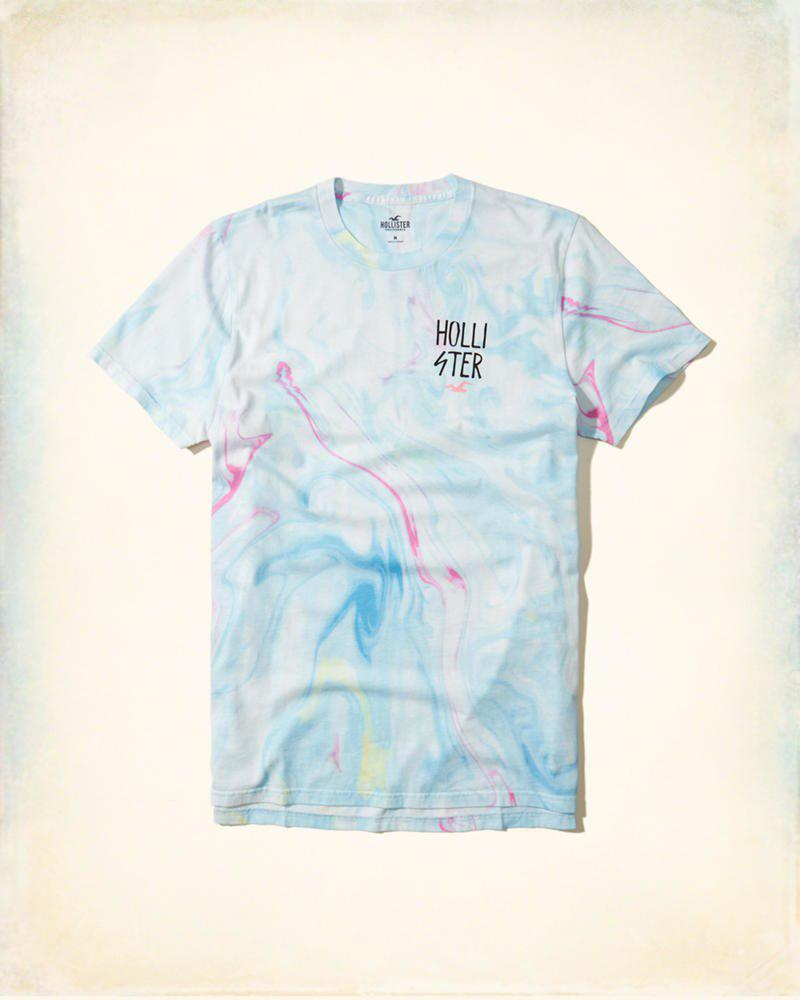teeshirt: (83, 153, 765, 903)
